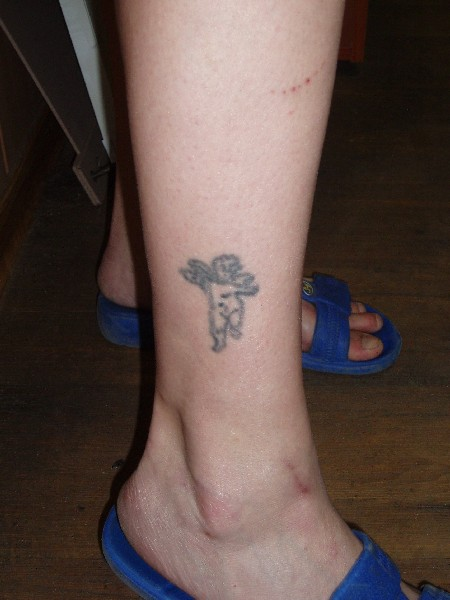tatu1_angel: (181, 254, 267, 357)
